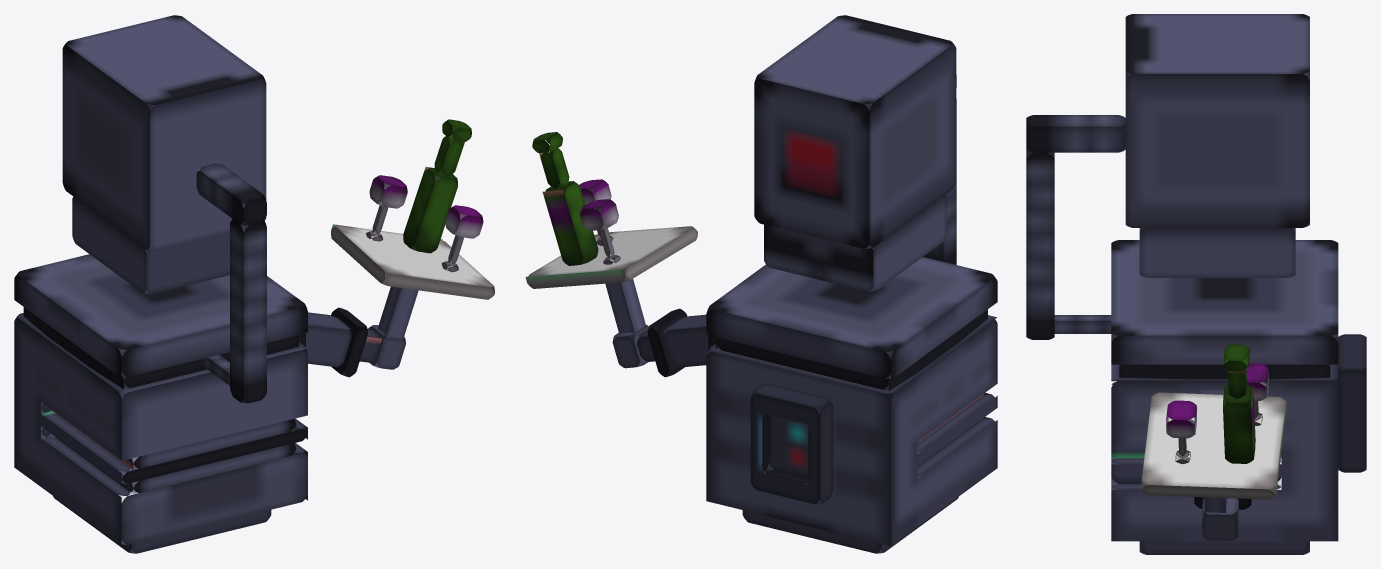
Rendered from waiterrobot.fbx.
The picture shows the model from 3 angles, left to right: view 1: azimuth 30°, elevation 25°; view 2: azimuth 150°, elevation 25°; view 3: azimuth 270°, elevation 25°; orthographic projection. The views are drawn at different scales.
Visible parts, largest first — view 1: cube_2, Head, head-2, canal2, tepsi, cube_16, canal1, cube_5, cube_1, cube_9, cube_6, cube_15 (+3 smaller); view 2: cube_2, Head, cube, head-2, tepsi, cube_16, cube_5, cube_1, cube_9, cube_6, canal2, cube_15 (+3 smaller); view 3: cube_2, Head, tepsi, head-2, canal2, cube, canal1, cube_1, cube_16, cube_8, canal3, cube_12 (+3 smaller).
Part boxes in pixels (x1,y1,x2,y2): cube_2: [14, 254, 307, 545]; Head: [62, 15, 266, 250]; head-2: [72, 196, 229, 294]; canal2: [230, 219, 266, 403]; tepsi: [331, 224, 494, 299]; cube_16: [403, 167, 457, 253]; canal1: [196, 163, 266, 225]; cube_5: [306, 312, 351, 367]; cube_1: [53, 457, 271, 553]; cube_9: [377, 286, 418, 341]; cube_6: [331, 307, 367, 377]; cube_15: [369, 175, 407, 208]; cube_2: [706, 257, 997, 545]; Head: [754, 15, 956, 248]; cube: [750, 384, 833, 504]; head-2: [764, 195, 946, 291]; tepsi: [525, 226, 697, 288]; cube_16: [542, 181, 598, 265]; cube_5: [663, 314, 708, 367]; cube_1: [742, 496, 958, 553]; cube_9: [605, 279, 645, 340]; cube_6: [647, 308, 687, 377]; canal2: [923, 99, 956, 264]; cube_15: [580, 199, 618, 230]; cube_2: [1111, 240, 1338, 541]; Head: [1125, 14, 1309, 227]; tepsi: [1141, 392, 1286, 499]; head-2: [1139, 228, 1295, 277]; canal2: [1026, 147, 1054, 339]; cube: [1338, 334, 1366, 472]; canal1: [1026, 115, 1125, 152]; cube_1: [1139, 458, 1309, 554]; cube_16: [1223, 384, 1255, 463]; cube_8: [1202, 498, 1239, 540]; canal3: [1054, 315, 1111, 333]; cube_12: [1166, 400, 1196, 438].
Size of the model in its own units: 218 by 231 by 150.
